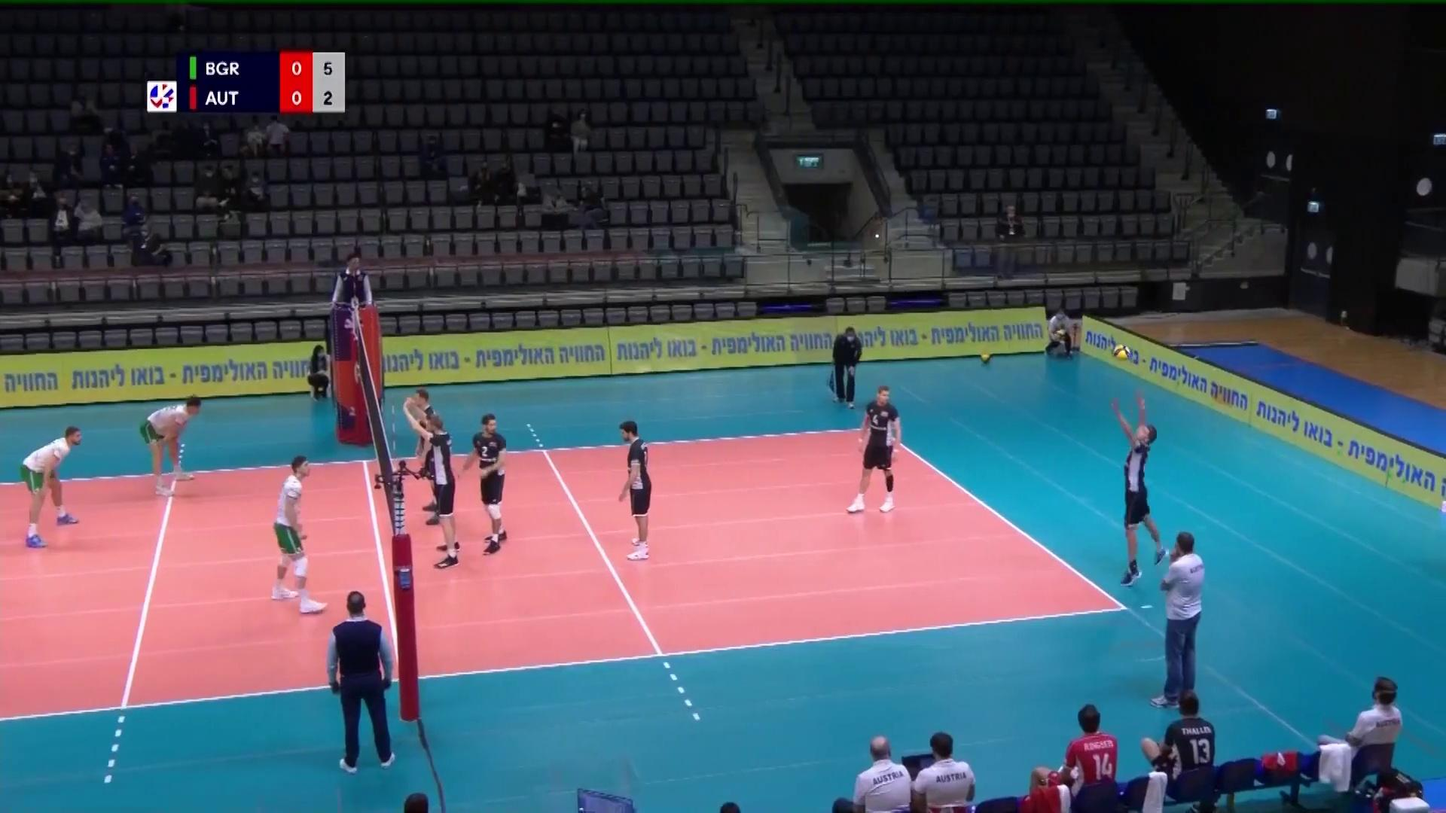ball: (1109, 343, 1131, 361)
